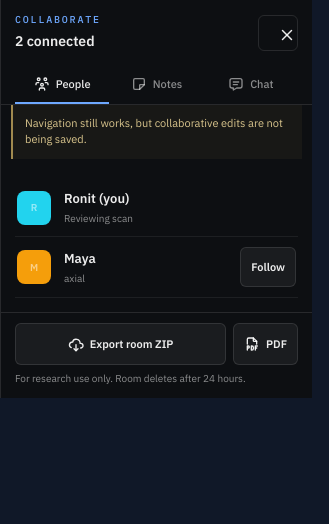
Test case: Live Room collaboration chrome › disables collaborative composition while reconnecting
Click the tab "Chat" at (251, 84), box [204, 64, 298, 104]
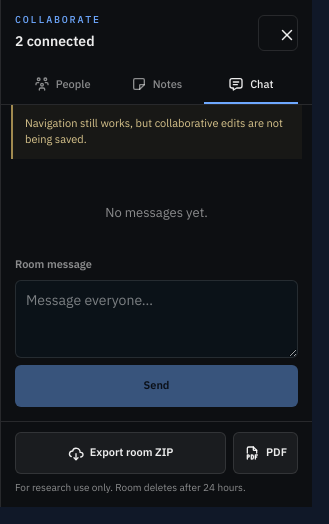
Check: the text "Navigation still works, but collaborative edits are not being saved." is shown, box [11, 105, 302, 159]
Check: the text box labelled "Room message" is disabled, box [15, 280, 298, 358]
